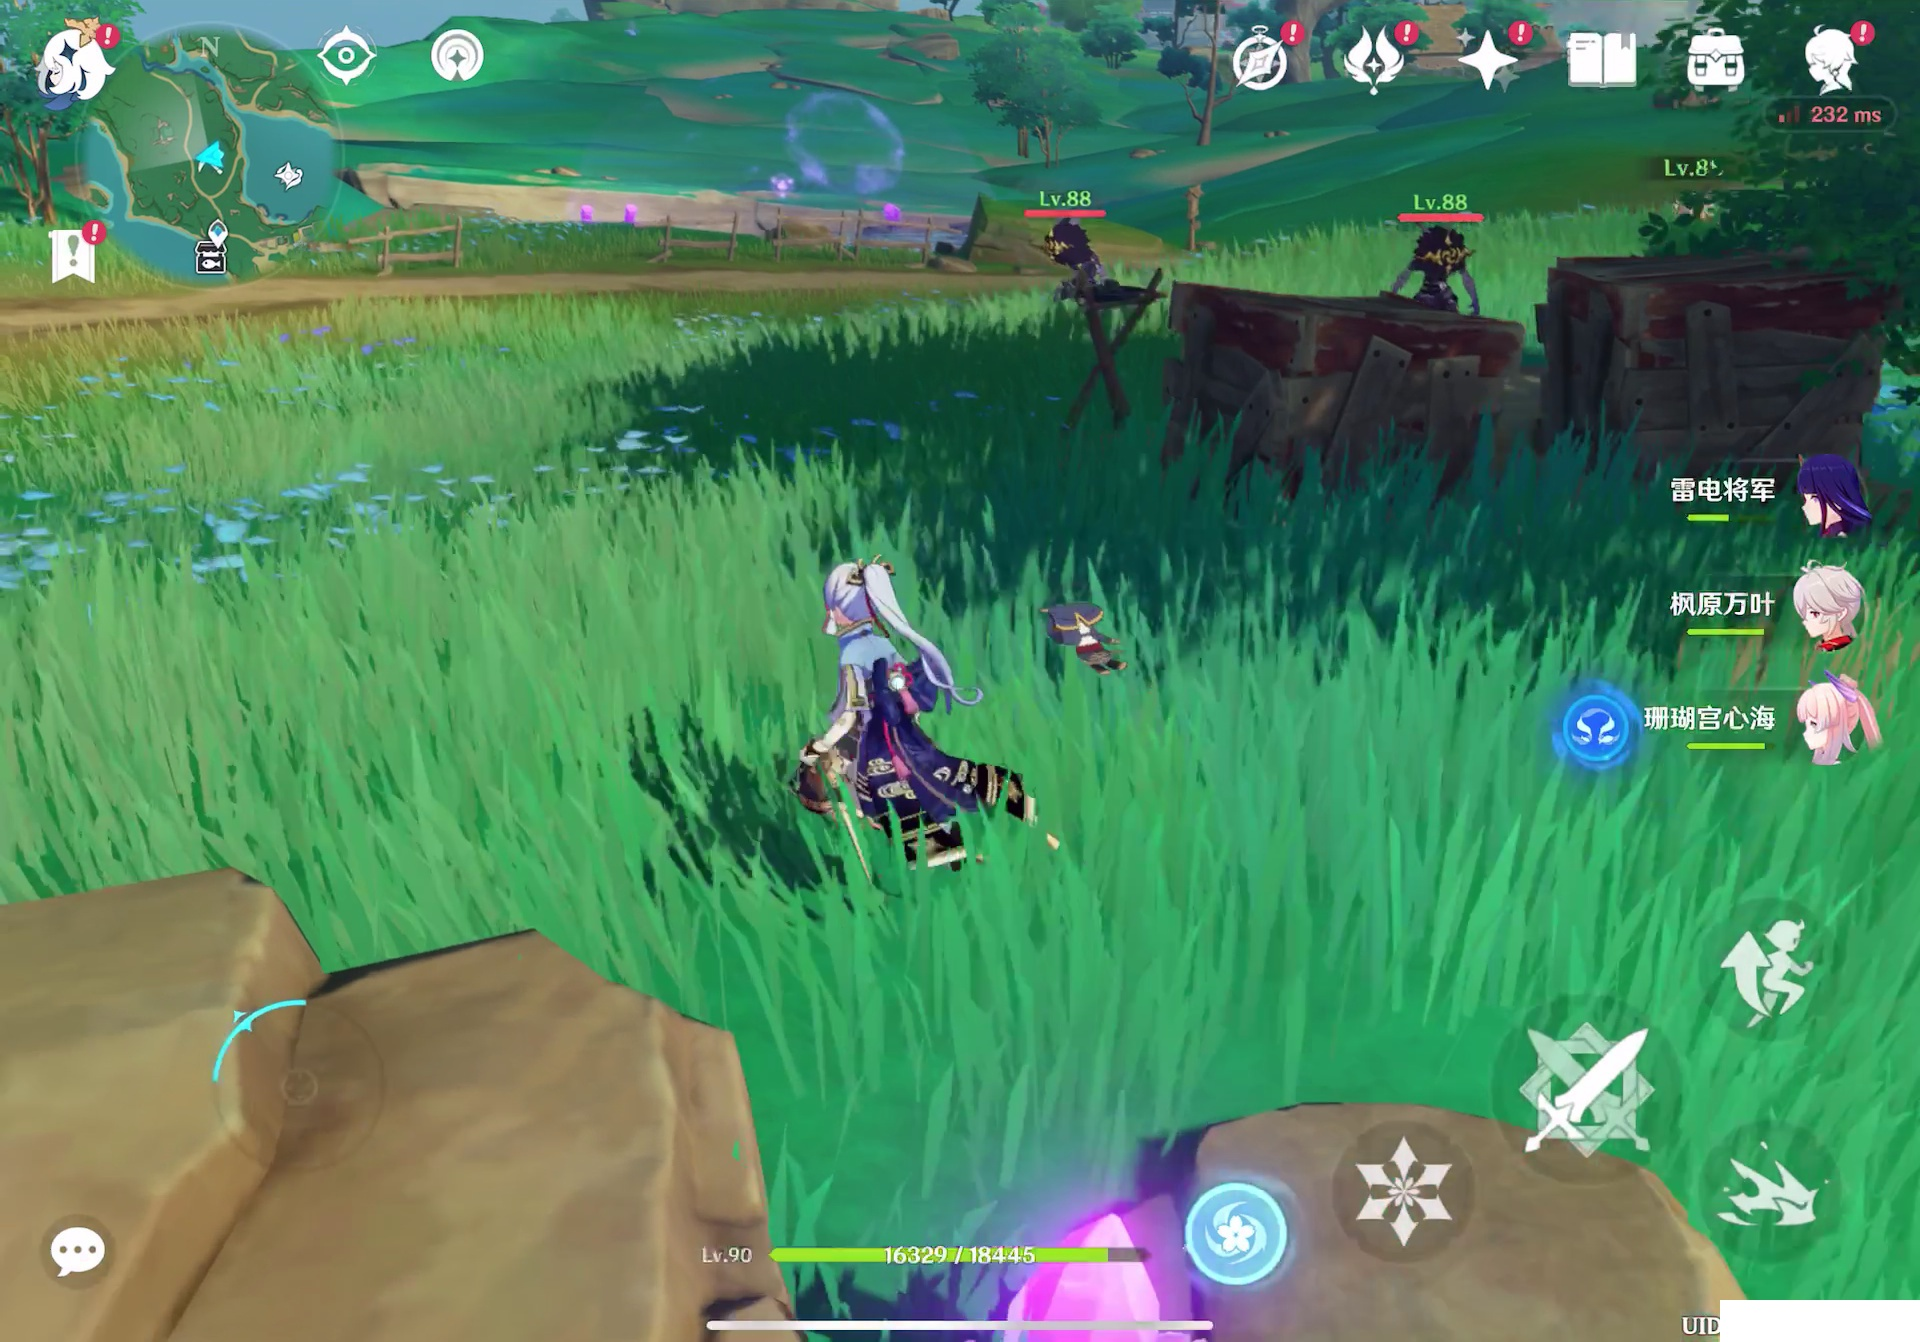丘丘人: (1392, 217, 1501, 311), (1043, 217, 1104, 290)
神里绫龟: (767, 532, 1001, 875)
